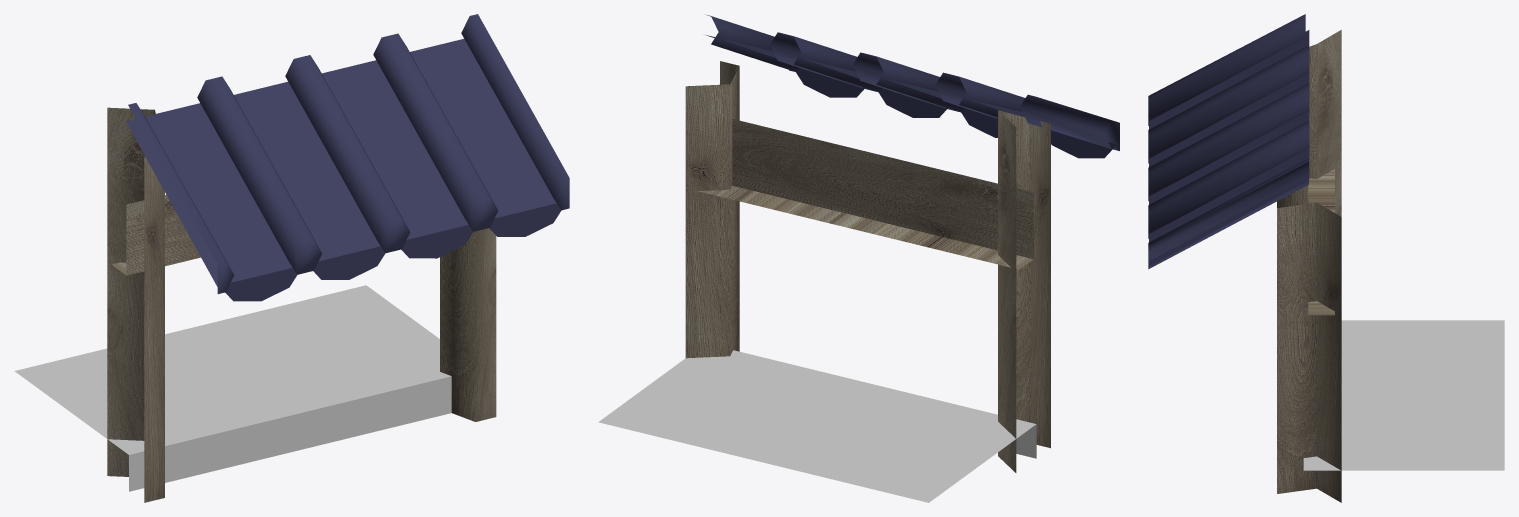
The model's file is Building_Corridor_5.fbx.
The picture shows the model from 3 angles, left to right: view 1: azimuth 30°, elevation 25°; view 2: azimuth 150°, elevation 25°; view 3: azimuth 270°, elevation 25°; orthographic projection. The views are drawn at different scales.
Parts seen in each view (by area): view 1: Cube.008, Plane.008, Cylinder.003, Cylinder.005, Circle.006, Circle.007, Circle.004, Circle.009, Plane.010, Circle.008, Plane.013, Plane.011 (+2 smaller); view 2: Cube.008, Plane.010, Cylinder.003, Cylinder.005, Circle.008, Circle.006, Circle.004, Circle.007, Circle.009, Plane.008, Plane.012, Plane.011 (+2 smaller); view 3: Cube.008, Cylinder.005, Plane.008, Cylinder.003, Circle.007, Circle.006, Circle.004, Circle.008, Circle.009, Plane.010.
Part boxes in pixels (x1,y1,x2,y2): Cube.008: (14,285,451,491); Plane.008: (126,39,556,286); Cylinder.003: (107,107,164,502); Cylinder.005: (440,228,496,421); Circle.006: (373,33,498,231); Circle.007: (197,76,322,274); Circle.004: (285,55,410,253); Circle.009: (461,14,569,210); Plane.010: (111,195,200,275); Circle.008: (128,103,234,293); Plane.013: (225,268,296,301); Plane.011: (401,225,473,258); Cube.008: (598,350,1036,502); Plane.010: (697,119,1033,269); Cylinder.003: (998,110,1050,472); Cylinder.005: (685,61,739,358); Circle.008: (1020,94,1119,150); Circle.006: (770,32,881,92); Circle.004: (852,52,964,112); Circle.007: (935,72,1025,118); Circle.009: (707,15,799,72); Plane.008: (706,35,1117,144); Plane.012: (796,68,864,97); Plane.011: (878,88,947,117); Cube.008: (1303,320,1504,470); Cylinder.005: (1277,202,1341,502); Plane.008: (1149,30,1309,266); Cylinder.003: (1277,30,1341,216); Circle.007: (1148,45,1308,163); Circle.006: (1148,120,1308,238); Circle.004: (1148,83,1308,200); Circle.008: (1148,14,1305,125); Circle.009: (1148,158,1308,269); Plane.010: (1308,169,1334,315).
Size of the model in its own units: 200 by 212 by 200.
